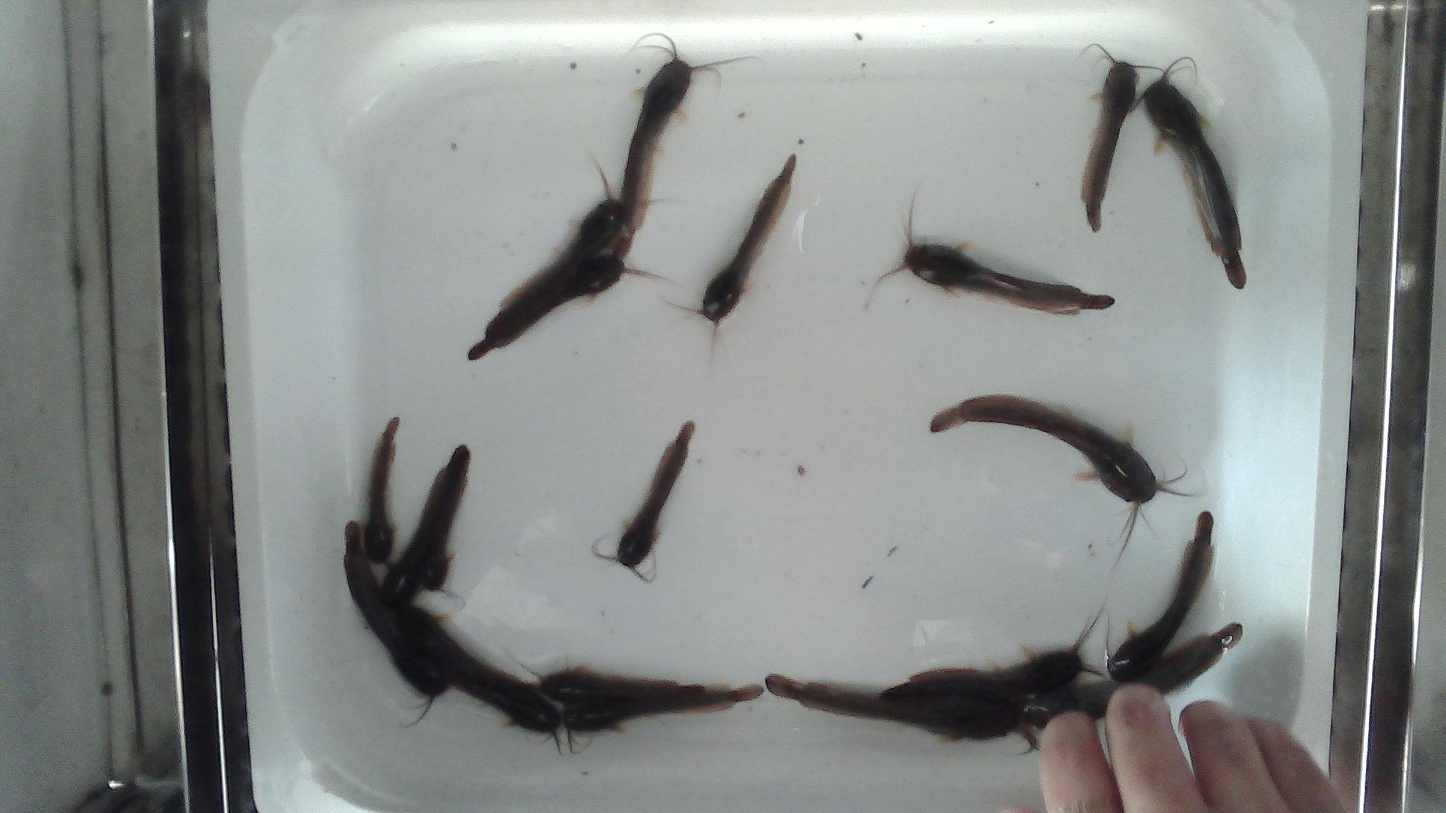lele: (931, 395, 1193, 545), (611, 33, 736, 257), (764, 673, 1038, 758), (1141, 68, 1246, 288), (1024, 627, 1242, 729), (876, 602, 1105, 699), (343, 519, 449, 721), (465, 244, 641, 361), (892, 224, 1114, 314), (1104, 508, 1216, 679), (504, 162, 625, 307), (698, 154, 795, 324), (423, 647, 561, 758), (559, 684, 762, 751), (397, 604, 534, 689), (616, 421, 694, 568), (1081, 45, 1136, 230), (384, 469, 443, 615), (415, 441, 470, 595), (528, 663, 703, 703), (364, 419, 398, 564)
